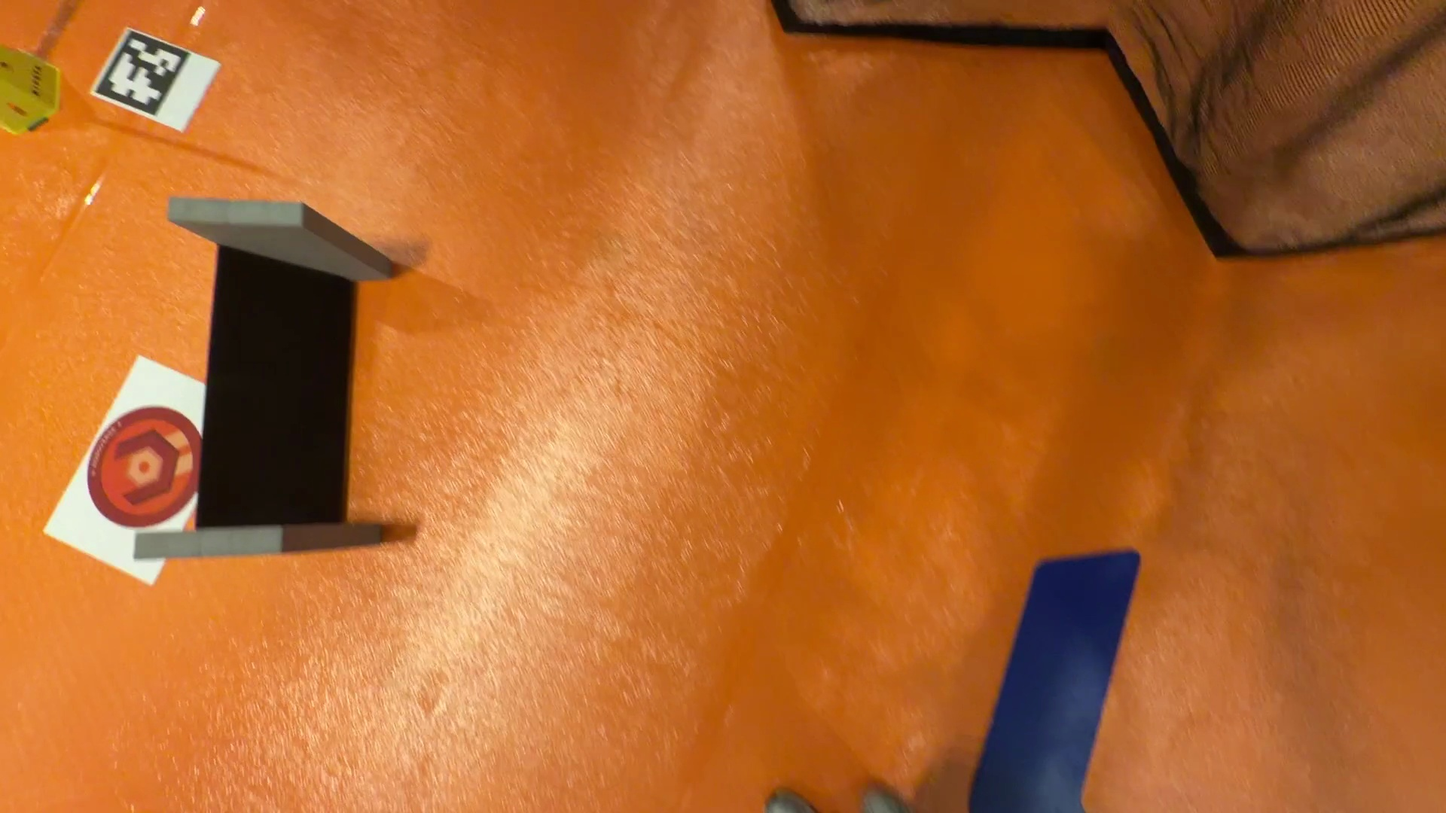landing_pad: (88, 402, 203, 528)
